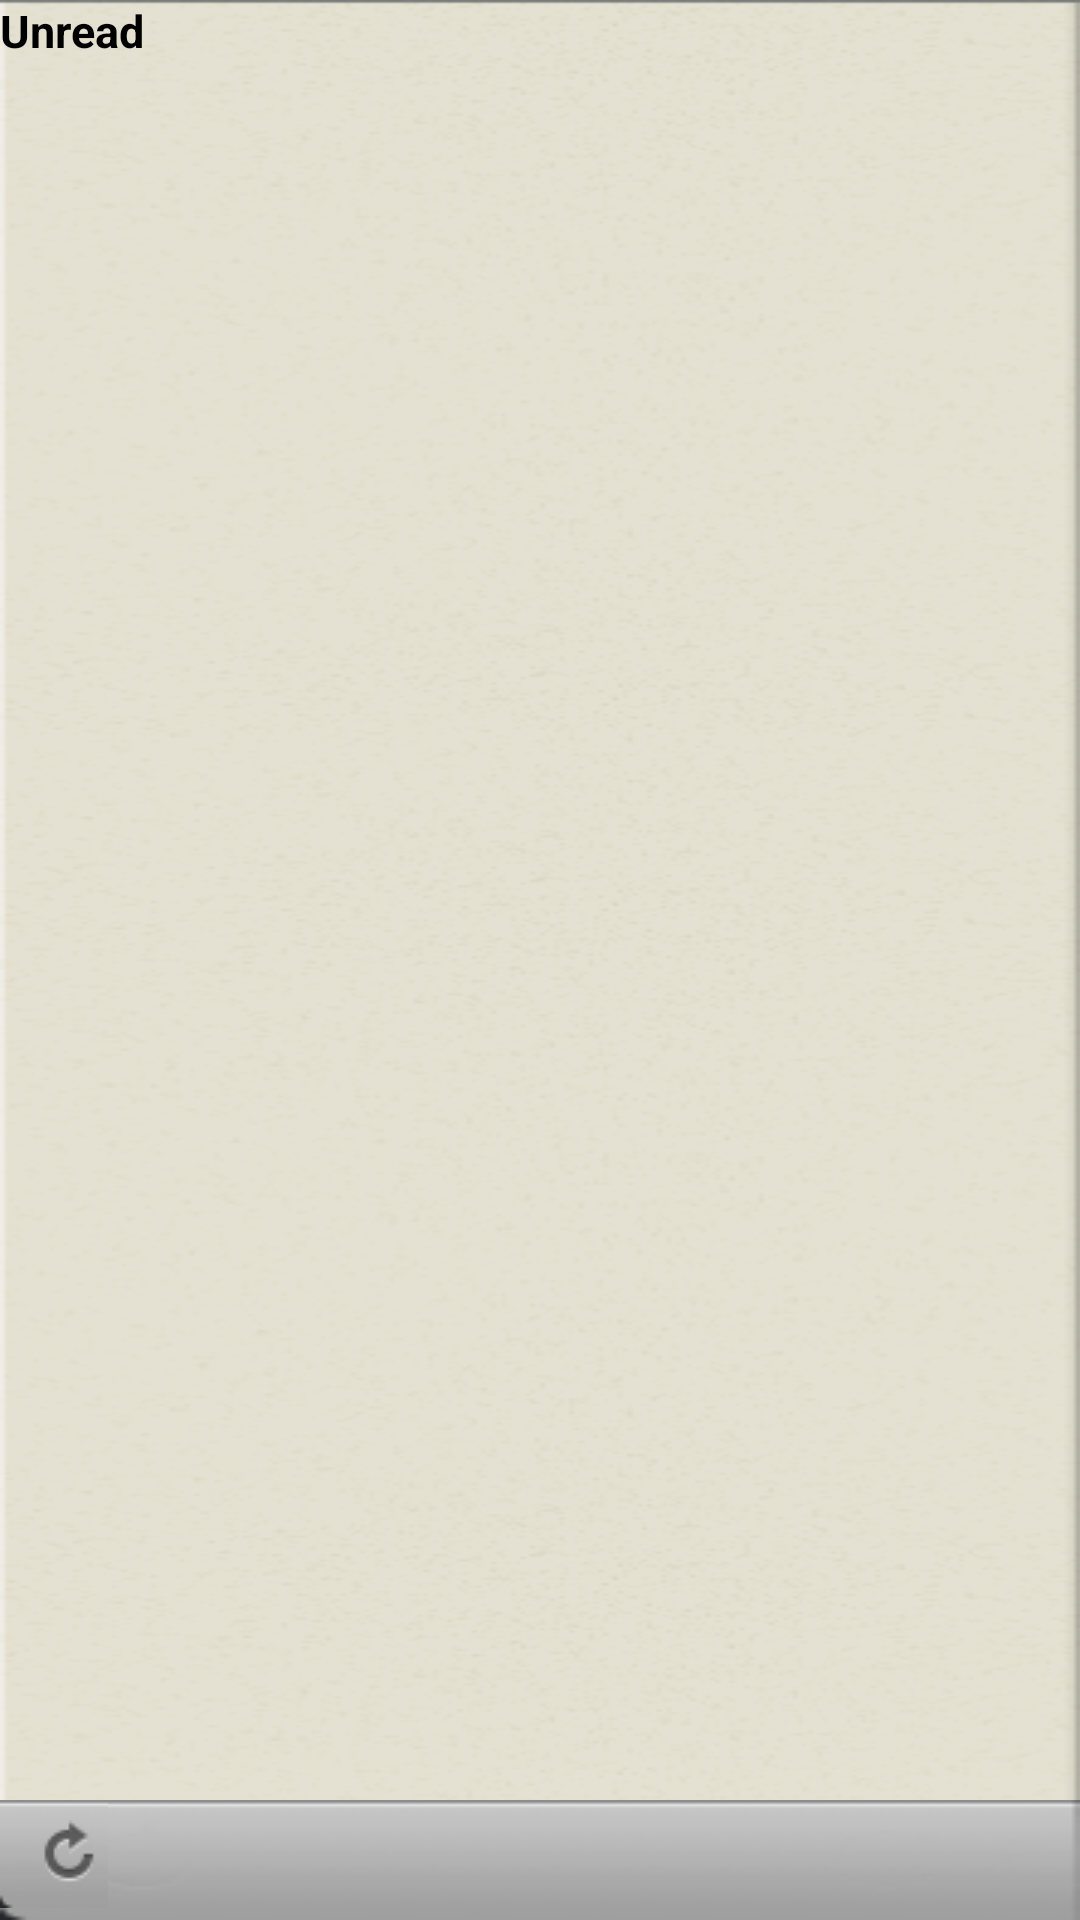

Icon click points for this 1080*1920 phone screenshot, format (x,y):
update: (54,1854)
